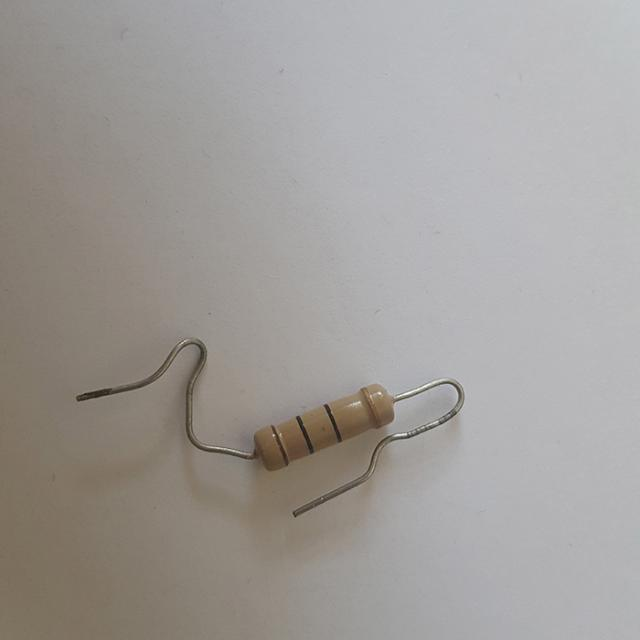black: (324, 403, 341, 441), (296, 416, 313, 453)
brown: (272, 424, 288, 464)
gold: (363, 388, 379, 424)
resistor: (231, 376, 406, 486)
